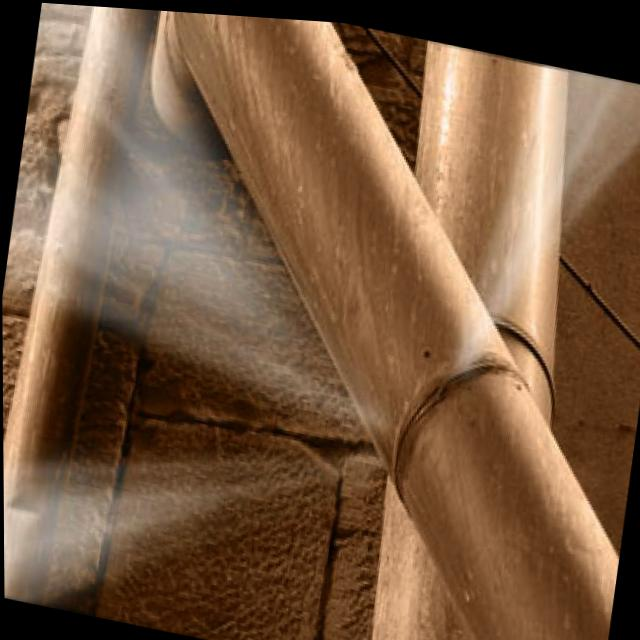leak: (2, 3, 401, 600), (443, 58, 640, 368)
